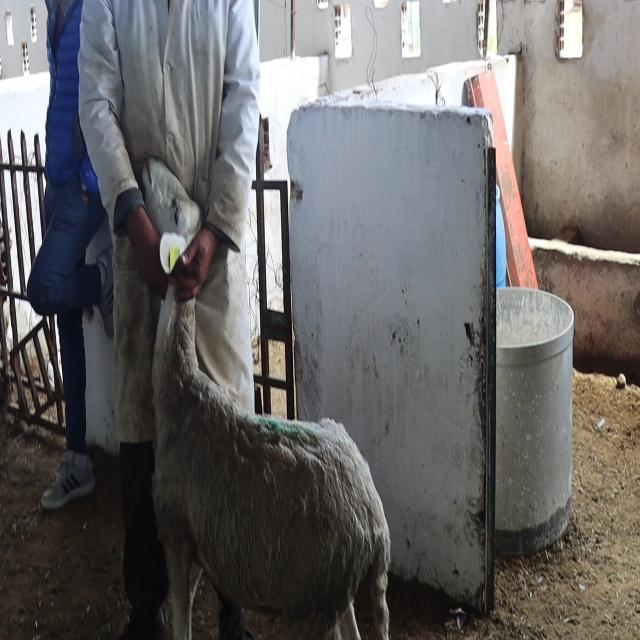Score_1: (152, 287, 391, 639)
